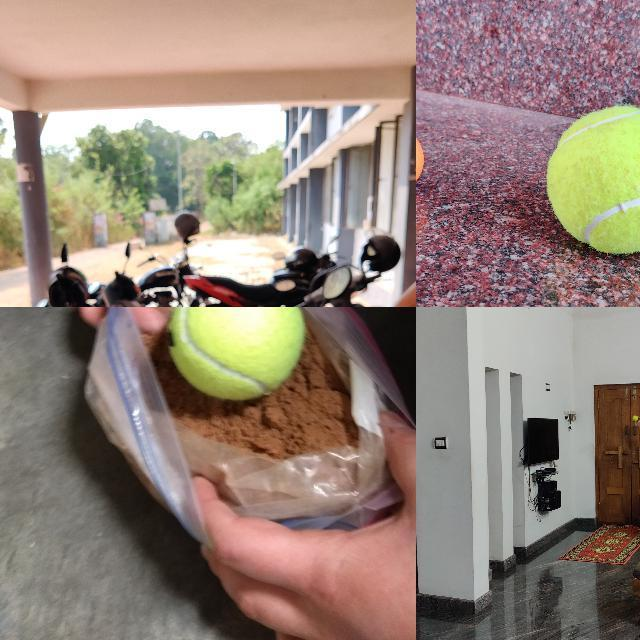tennis-ball: (547, 104, 639, 254), (167, 307, 306, 402), (632, 416, 638, 421)
